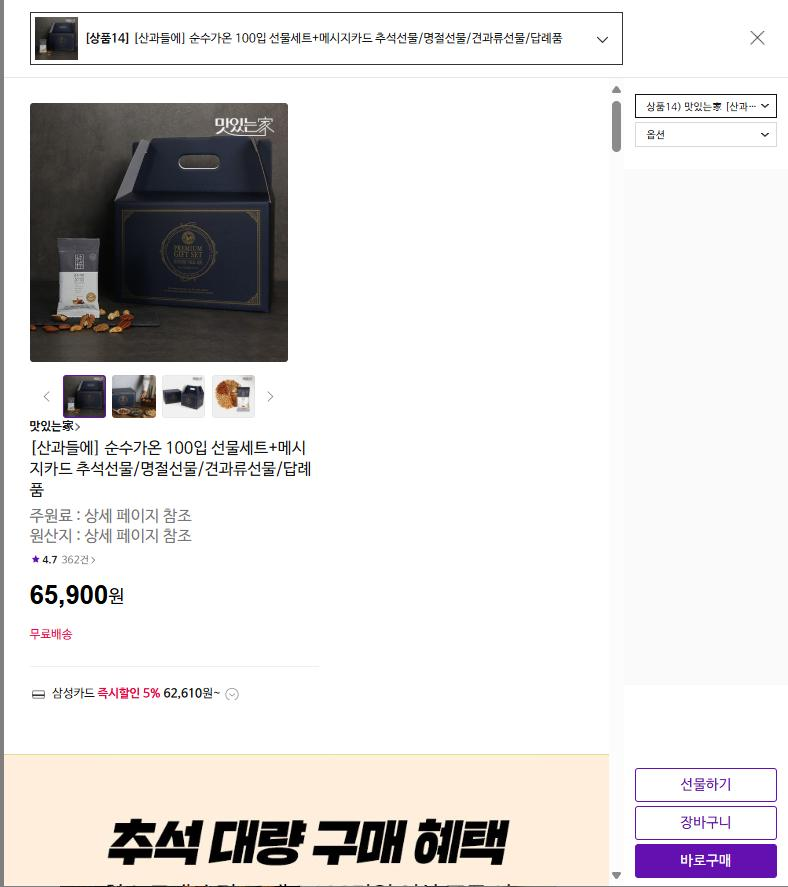button: (633, 766, 778, 804), (637, 805, 782, 842), (637, 844, 782, 881)
checkbox: (31, 10, 624, 67), (635, 91, 778, 116), (634, 121, 777, 146)
